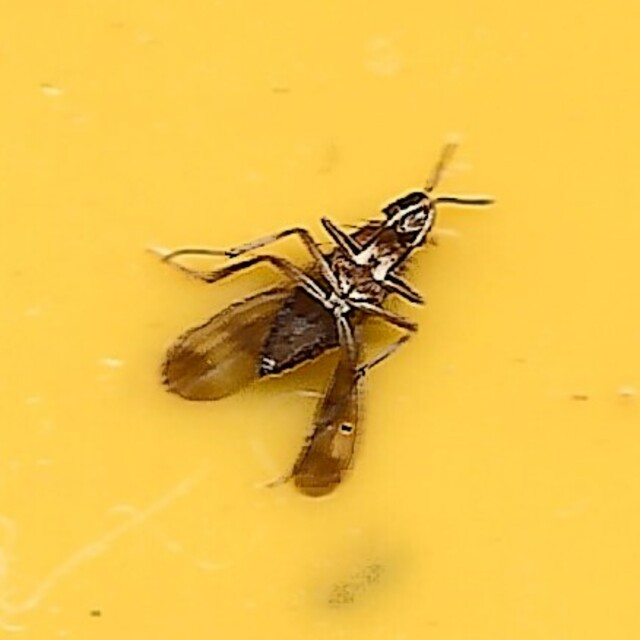Brachycera: (146, 147, 494, 493)
